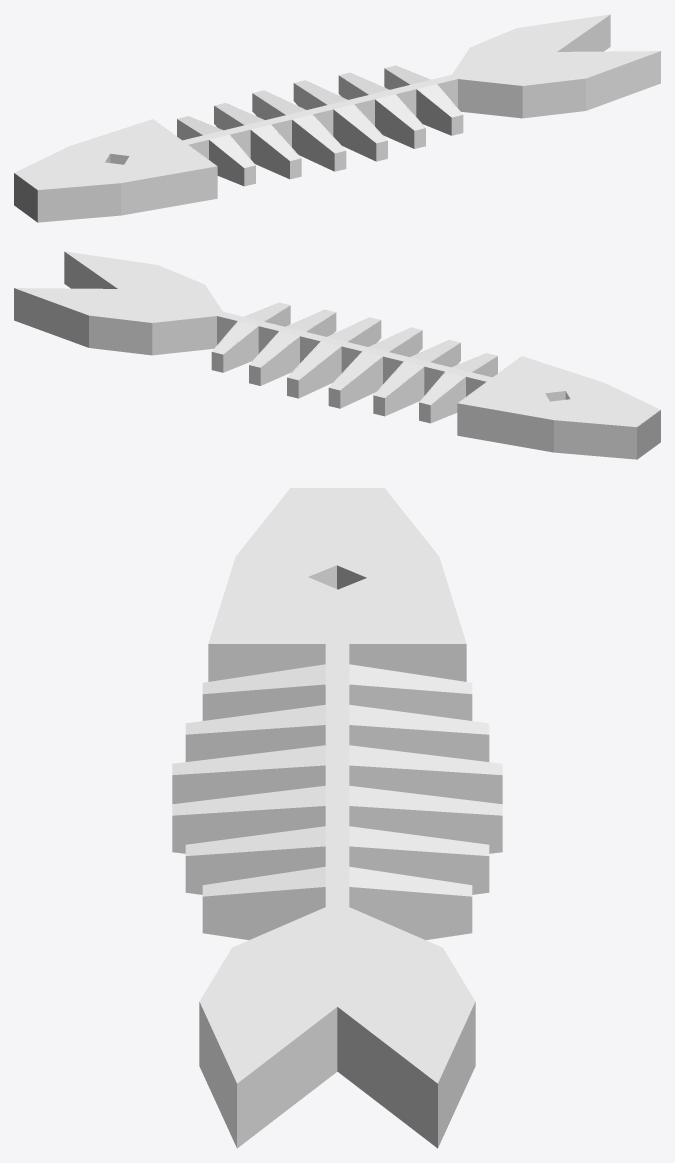
The model's file is Fish Bone 2.fbx.
3 views of the same model, one above another, from view 1: azimuth 30°, elevation 25°; view 2: azimuth 150°, elevation 25°; view 3: azimuth 270°, elevation 25° (orthographic). The views are drawn at different scales.
Parts seen in each view (by area): view 1: Box002; view 2: Box002; view 3: Box002.
Boxes of the visible parts, x1,y1,x2,y2 form: Box002: [14, 14, 660, 222]; Box002: [14, 251, 660, 459]; Box002: [172, 488, 502, 1148].
Bounding box in the file's own units: 110 × 5.57 × 25.7.
Materials: 1 (1 with a texture image).
